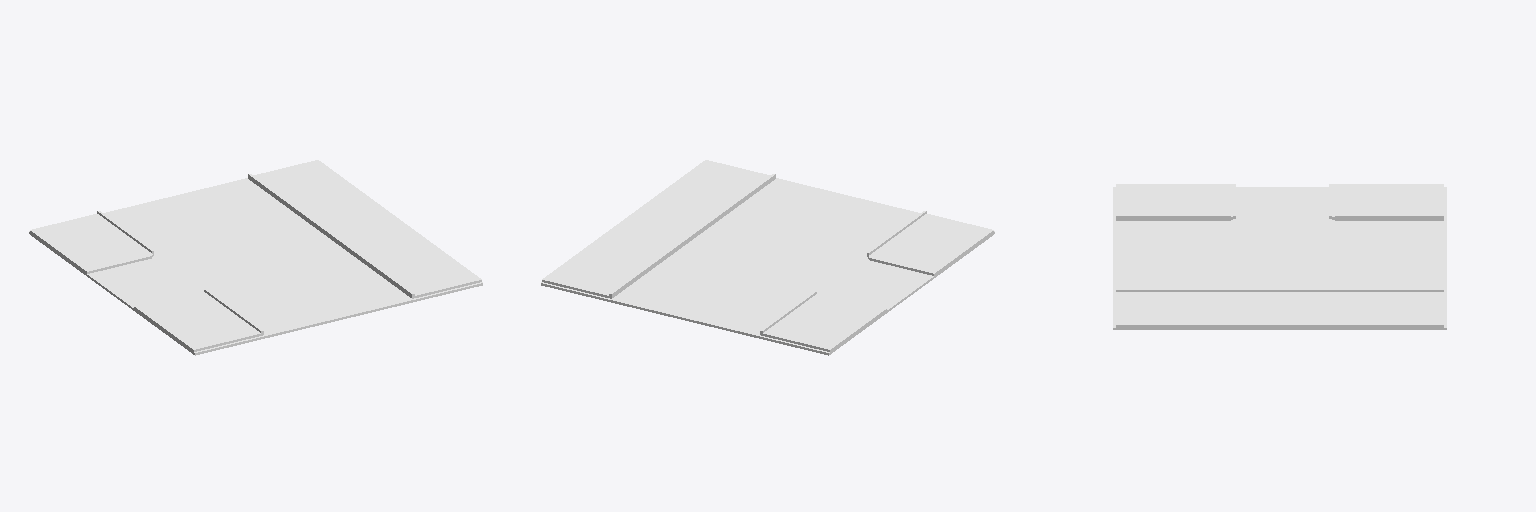
File: GDS2_Flooring-16.obj
The picture shows the model from 3 angles: view 1: azimuth 30°, elevation 25°; view 2: azimuth 150°, elevation 25°; view 3: azimuth 270°, elevation 25°; orthographic projection.
Visible parts, largest first — view 1: GDS2_Flooring-16; view 2: GDS2_Flooring-16; view 3: GDS2_Flooring-16.
Boxes of the visible parts, box(x1,y1,x2,y2) form: GDS2_Flooring-16: box(29, 160, 482, 355); GDS2_Flooring-16: box(541, 160, 994, 355); GDS2_Flooring-16: box(1113, 184, 1446, 329).
Size of the model in its own units: 12.8 by 0.3 by 12.8.